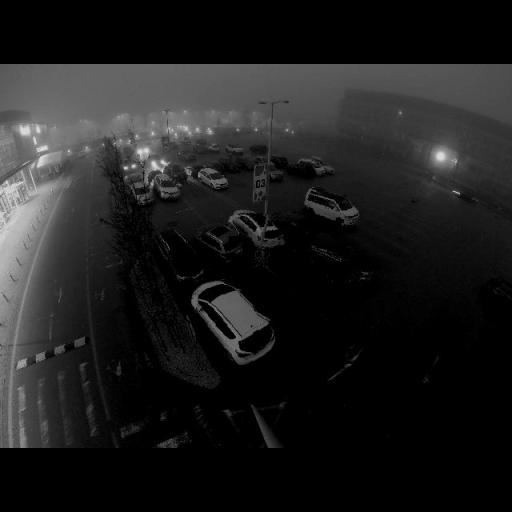busy: (194, 280, 283, 371), (308, 232, 374, 284), (154, 229, 208, 286), (196, 222, 252, 269), (306, 186, 363, 226), (230, 210, 284, 252), (272, 209, 318, 244), (487, 278, 512, 334), (149, 173, 184, 203), (196, 167, 231, 191), (298, 158, 330, 176), (286, 162, 314, 178), (167, 163, 190, 181)
free: (251, 282, 295, 322), (296, 266, 330, 298), (352, 236, 380, 260), (184, 184, 205, 200), (230, 176, 250, 189)
